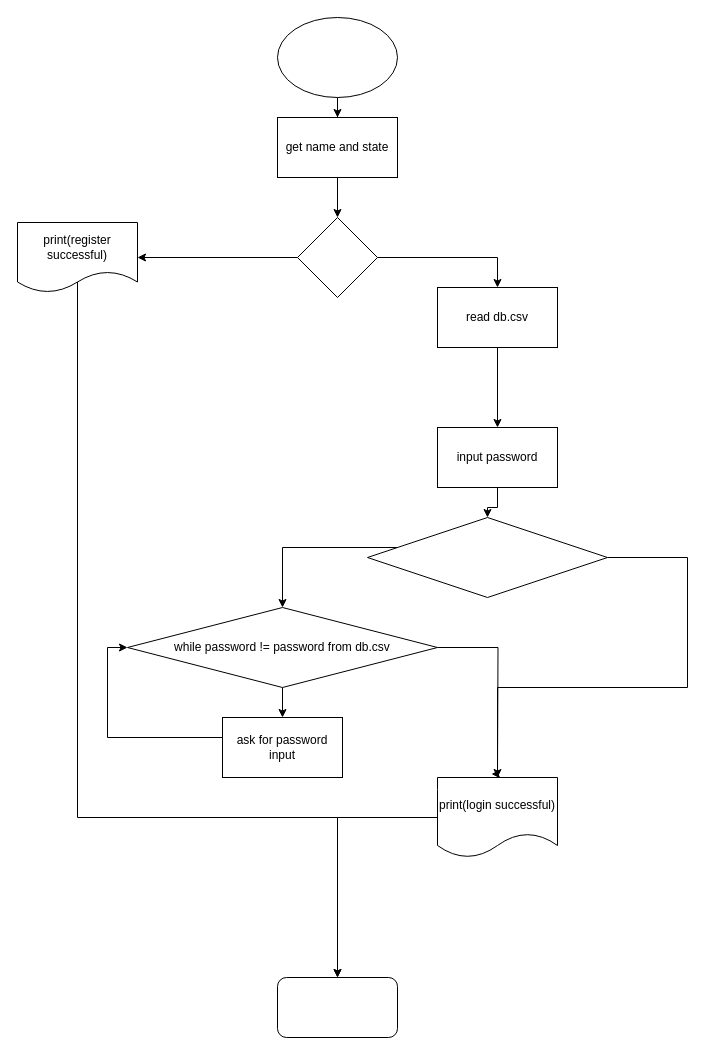
Image size: 713x1055. Some labels were removed from this diagram. Each missing label, with the centre of its shape:
"if password == password from db.csv" goes at point (487, 557).
"if state = user" goes at point (337, 257).
"return to main program" goes at point (337, 1007).
"start login" goes at point (337, 57).
